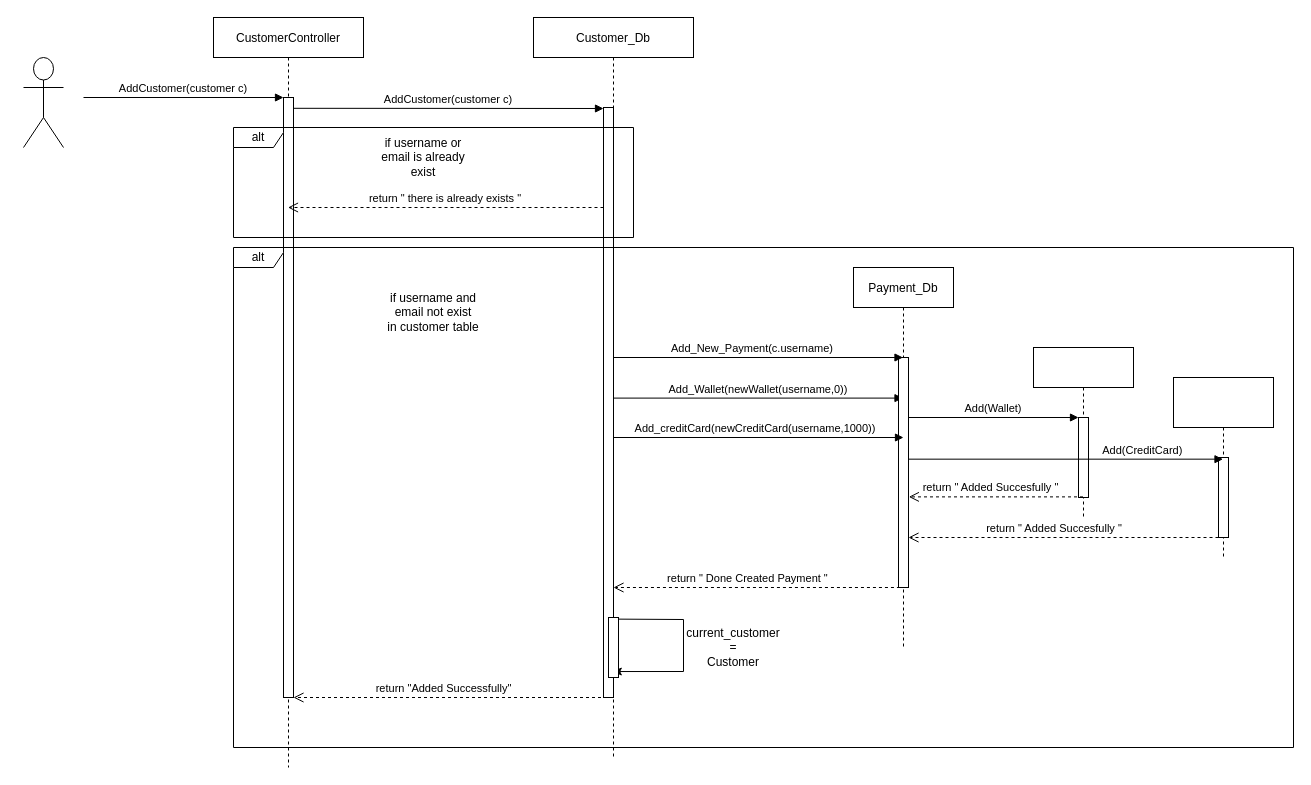
The diagram is 1311 pixels wide and 785 high, and some of its shapes have lost their labels. The box of each missing label's shape, as (x1, y1, x2, y2) in pixels:
CreditCard_Db: (1172, 376, 1274, 558)
Customer: (22, 56, 64, 148)
Wallet_Db: (1032, 346, 1134, 518)
